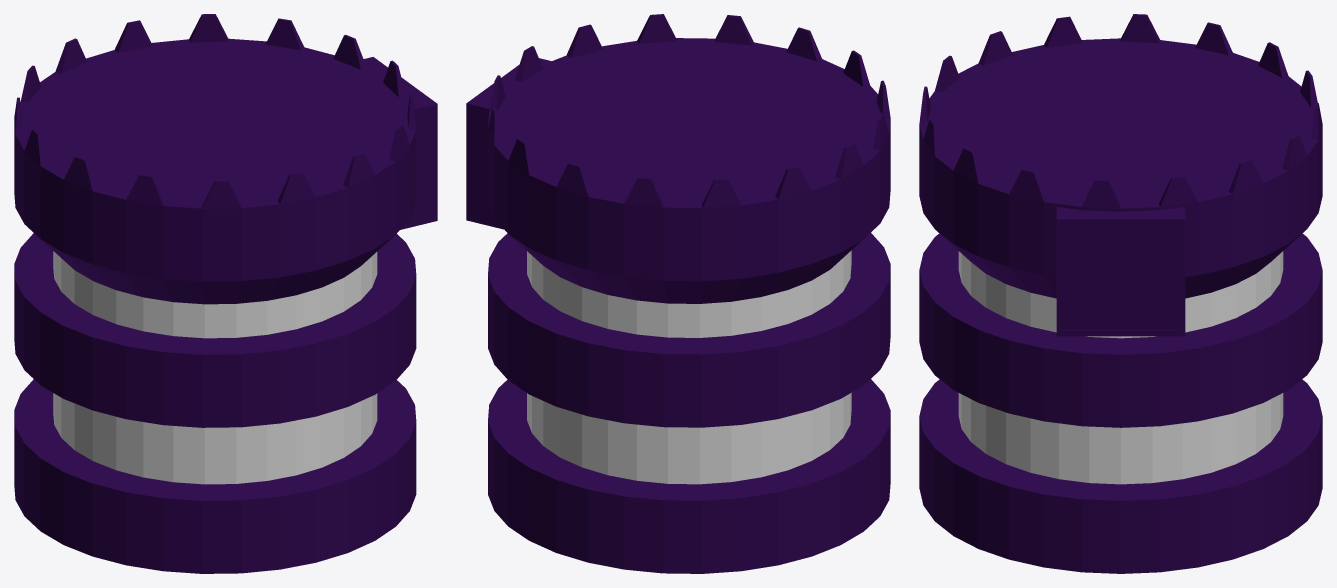
File: ModuloConstruccionInf.fbx
3 renders of one model, left to right at view 1: azimuth 30°, elevation 25°; view 2: azimuth 150°, elevation 25°; view 3: azimuth 270°, elevation 25°, orthographic.
Visible parts, largest first — view 1: Cylinder, Cube; view 2: Cylinder, Cube; view 3: Cylinder, Cube.
Boxes of the visible parts, bbox=[...] form: Cylinder: bbox=[14, 14, 416, 573]; Cube: bbox=[363, 57, 437, 229]; Cylinder: bbox=[488, 14, 890, 573]; Cube: bbox=[466, 58, 551, 229]; Cylinder: bbox=[919, 14, 1322, 573]; Cube: bbox=[1056, 207, 1185, 336].
Size of the model in its own units: 209 by 214 by 200.
